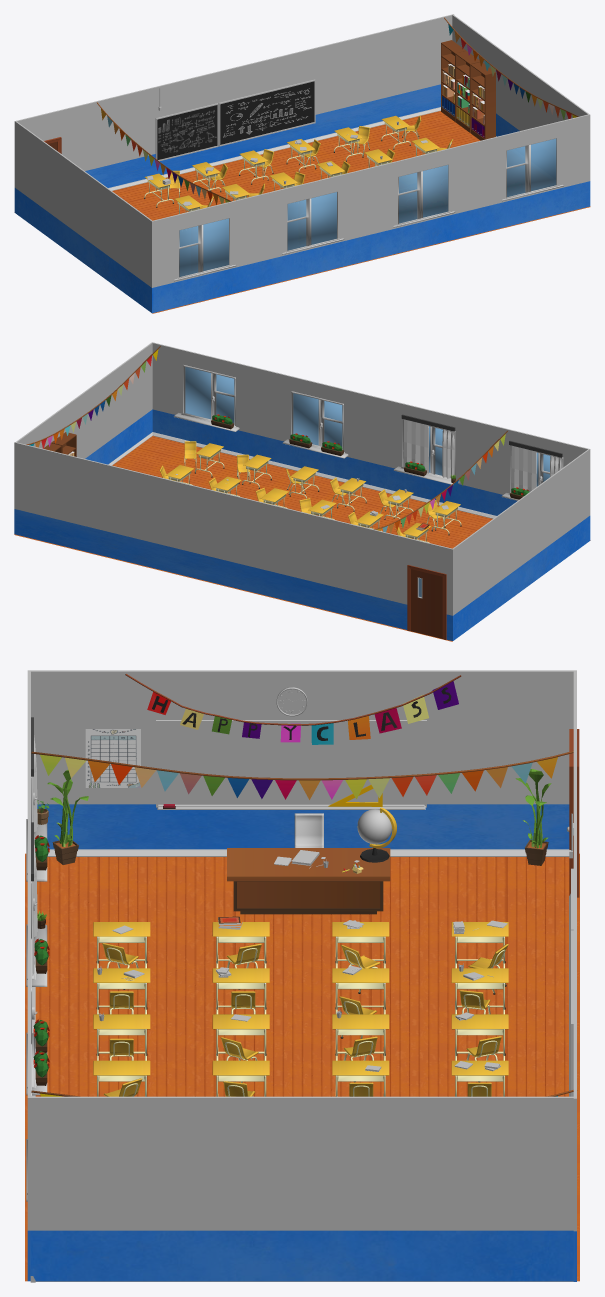
Rendered from classroom.fbx.
The picture shows the model from 3 angles, top to bottom: view 1: azimuth 30°, elevation 25°; view 2: azimuth 150°, elevation 25°; view 3: azimuth 270°, elevation 25°; orthographic projection. The views are drawn at different scales.
Visible parts, largest first — view 1: polySurface519; view 2: polySurface519; view 3: polySurface519.
Part boxes in pixels (x1,y1,x2,y2): polySurface519: [14, 14, 590, 313]; polySurface519: [14, 342, 590, 641]; polySurface519: [25, 670, 579, 1282].
Size of the model in its own units: 57.62 by 11.59 by 31.56.
